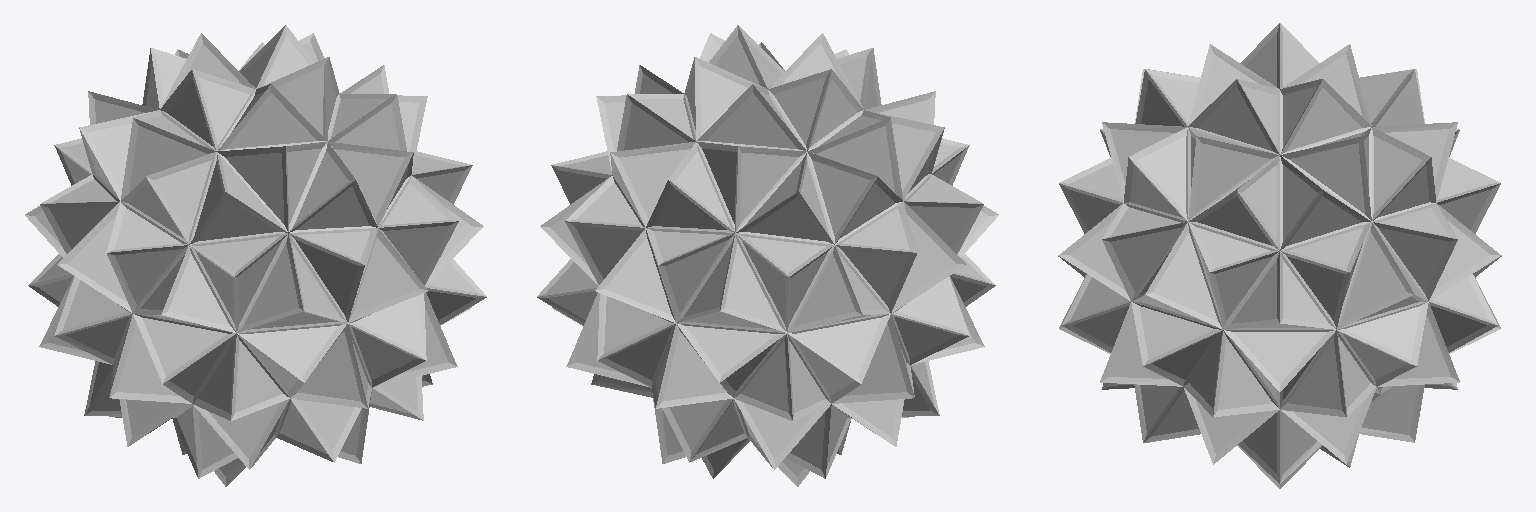
Rendered from reward_enemey.obj.
3 renders of one model, left to right at view 1: azimuth 30°, elevation 25°; view 2: azimuth 150°, elevation 25°; view 3: azimuth 270°, elevation 25°, orthographic.
Parts seen in each view (by area): view 1: Icosphere, Icosphere.001; view 2: Icosphere, Icosphere.001; view 3: Icosphere, Icosphere.001.
Boxes of the visible parts, x1,y1,x2,y2 form: Icosphere: [35, 36, 476, 476]; Icosphere.001: [25, 25, 486, 486]; Icosphere: [547, 36, 988, 476]; Icosphere.001: [537, 25, 998, 486]; Icosphere: [1068, 33, 1491, 473]; Icosphere.001: [1058, 23, 1501, 488].
Size of the model in its own units: 1.14 by 1.1 by 1.09.